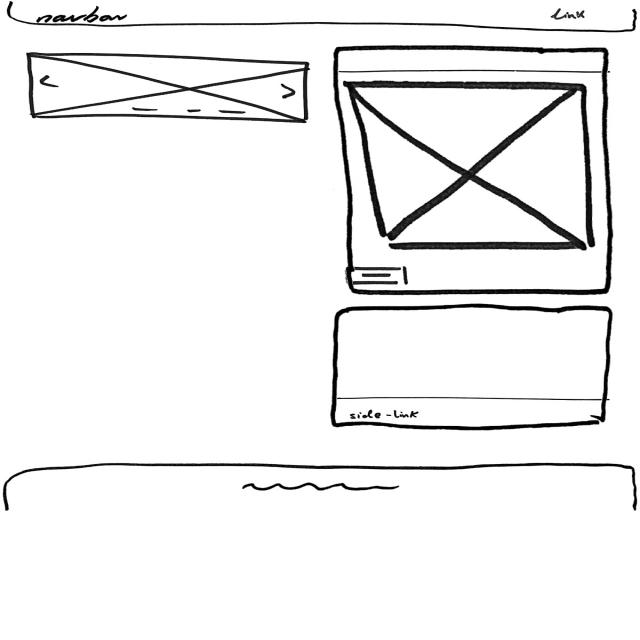container: (344, 46, 613, 296), (326, 305, 615, 432), (3, 1, 640, 32)
icon-button: (344, 263, 414, 287)
image: (345, 79, 597, 253), (26, 52, 312, 122)
label: (37, 3, 131, 25), (351, 407, 425, 421), (550, 4, 591, 26)
text: (237, 480, 405, 494)
